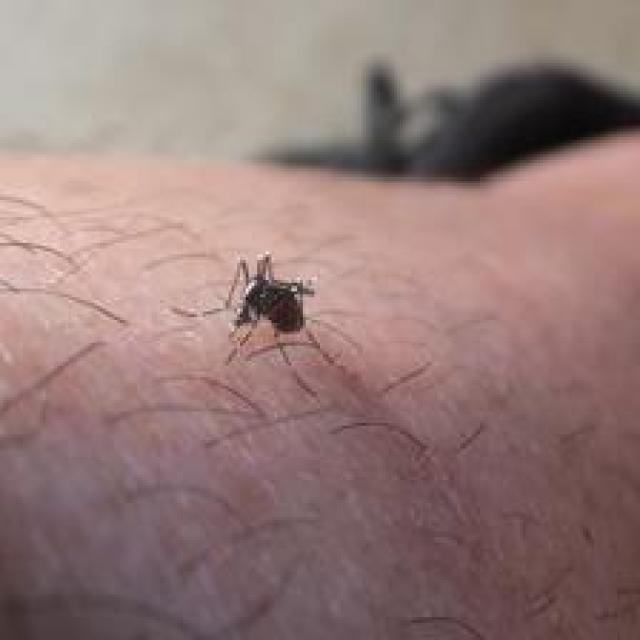Aedes albopictus: (171, 249, 366, 397)
